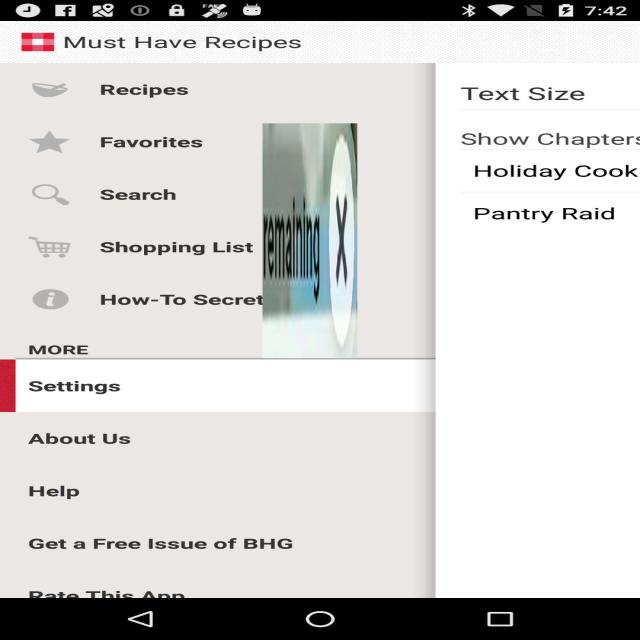misdirection: (262, 123, 358, 358)
